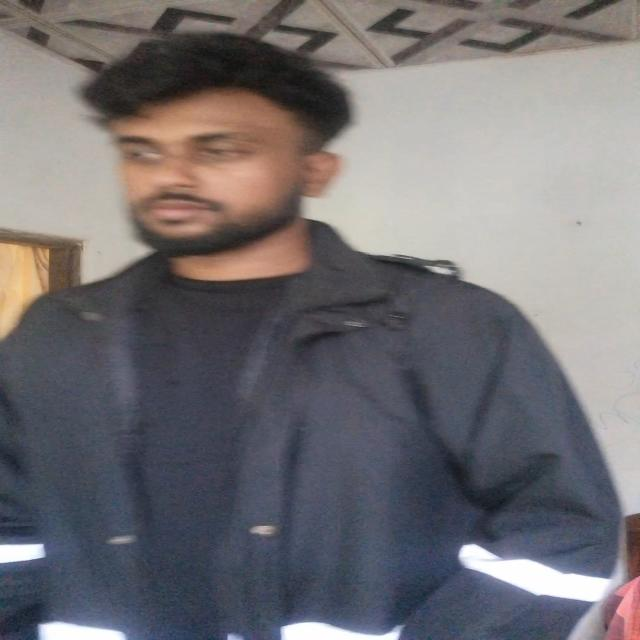Jacket_Wearer: (14, 234, 610, 640)
